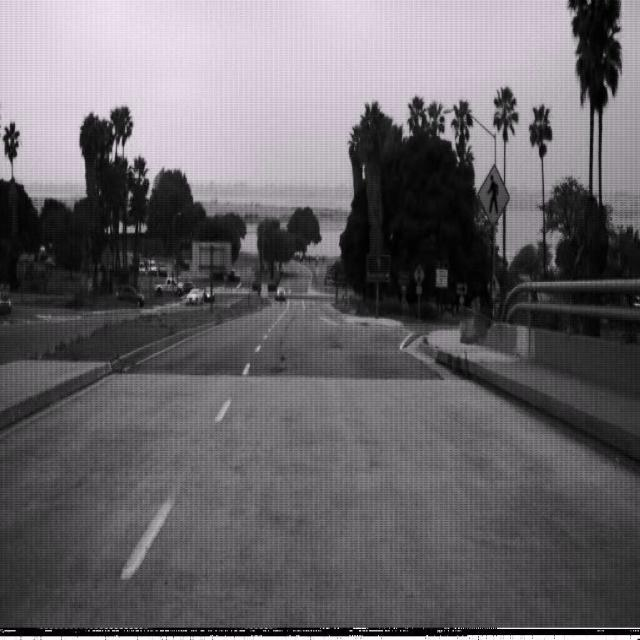pedestrianCrossing: (476, 162, 511, 228)
